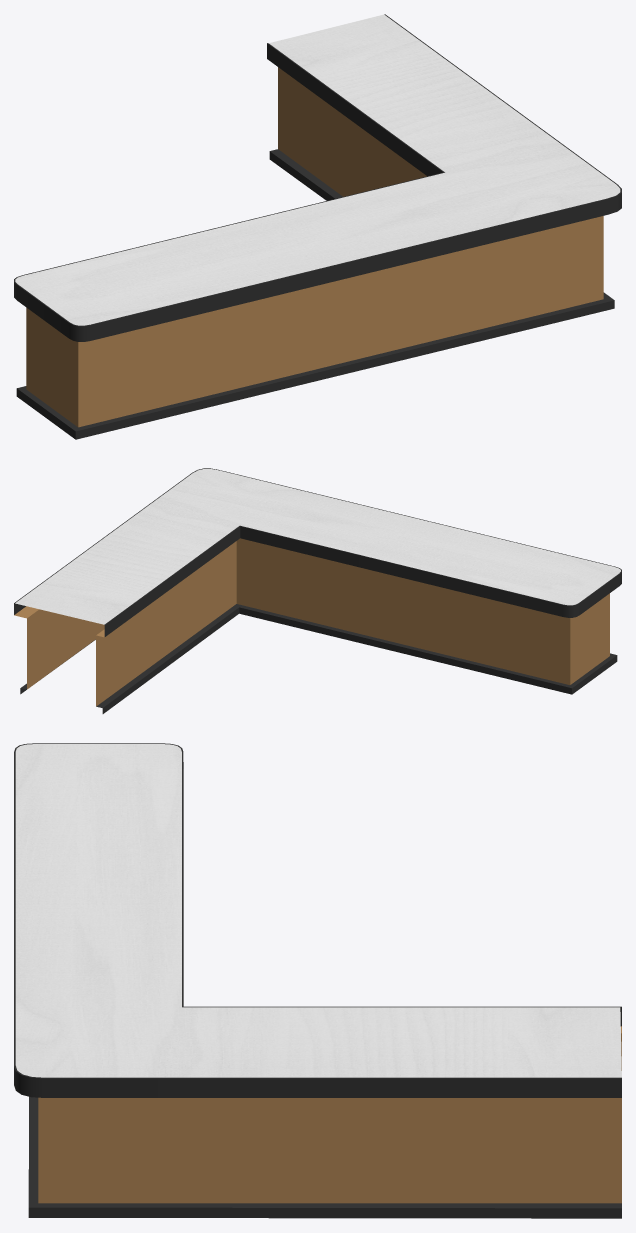
The model's file is Meson-4.FBX.
3 renders of one model, top to bottom at view 1: azimuth 30°, elevation 25°; view 2: azimuth 150°, elevation 25°; view 3: azimuth 270°, elevation 25°, orthographic. The views are drawn at different scales.
Visible parts, largest first — view 1: Meson4; view 2: Meson4; view 3: Meson4.
Boxes of the visible parts, x1,y1,x2,y2 form: Meson4: (14, 14, 621, 439); Meson4: (14, 468, 621, 713); Meson4: (14, 743, 621, 1218).
Size of the model in its own units: 495 by 379 by 100.
